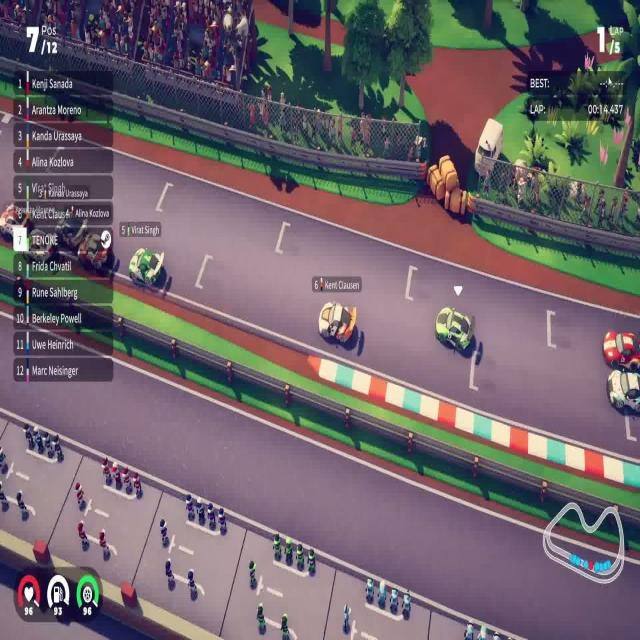car: (434, 305, 473, 354), (318, 299, 358, 345), (601, 368, 640, 413), (602, 329, 639, 371), (128, 246, 165, 288)
